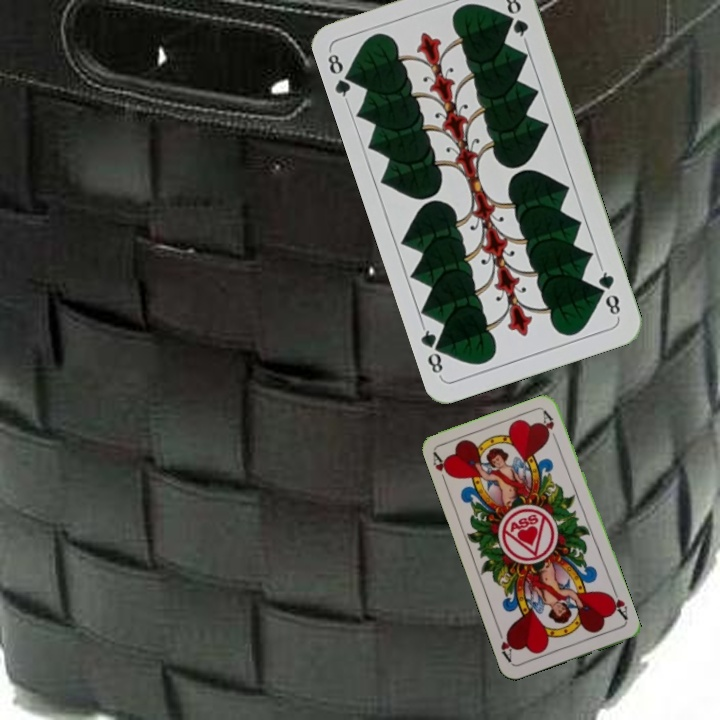G8: (323, 48, 359, 105), (594, 263, 623, 320)
HA: (429, 448, 455, 488), (604, 585, 630, 624)
